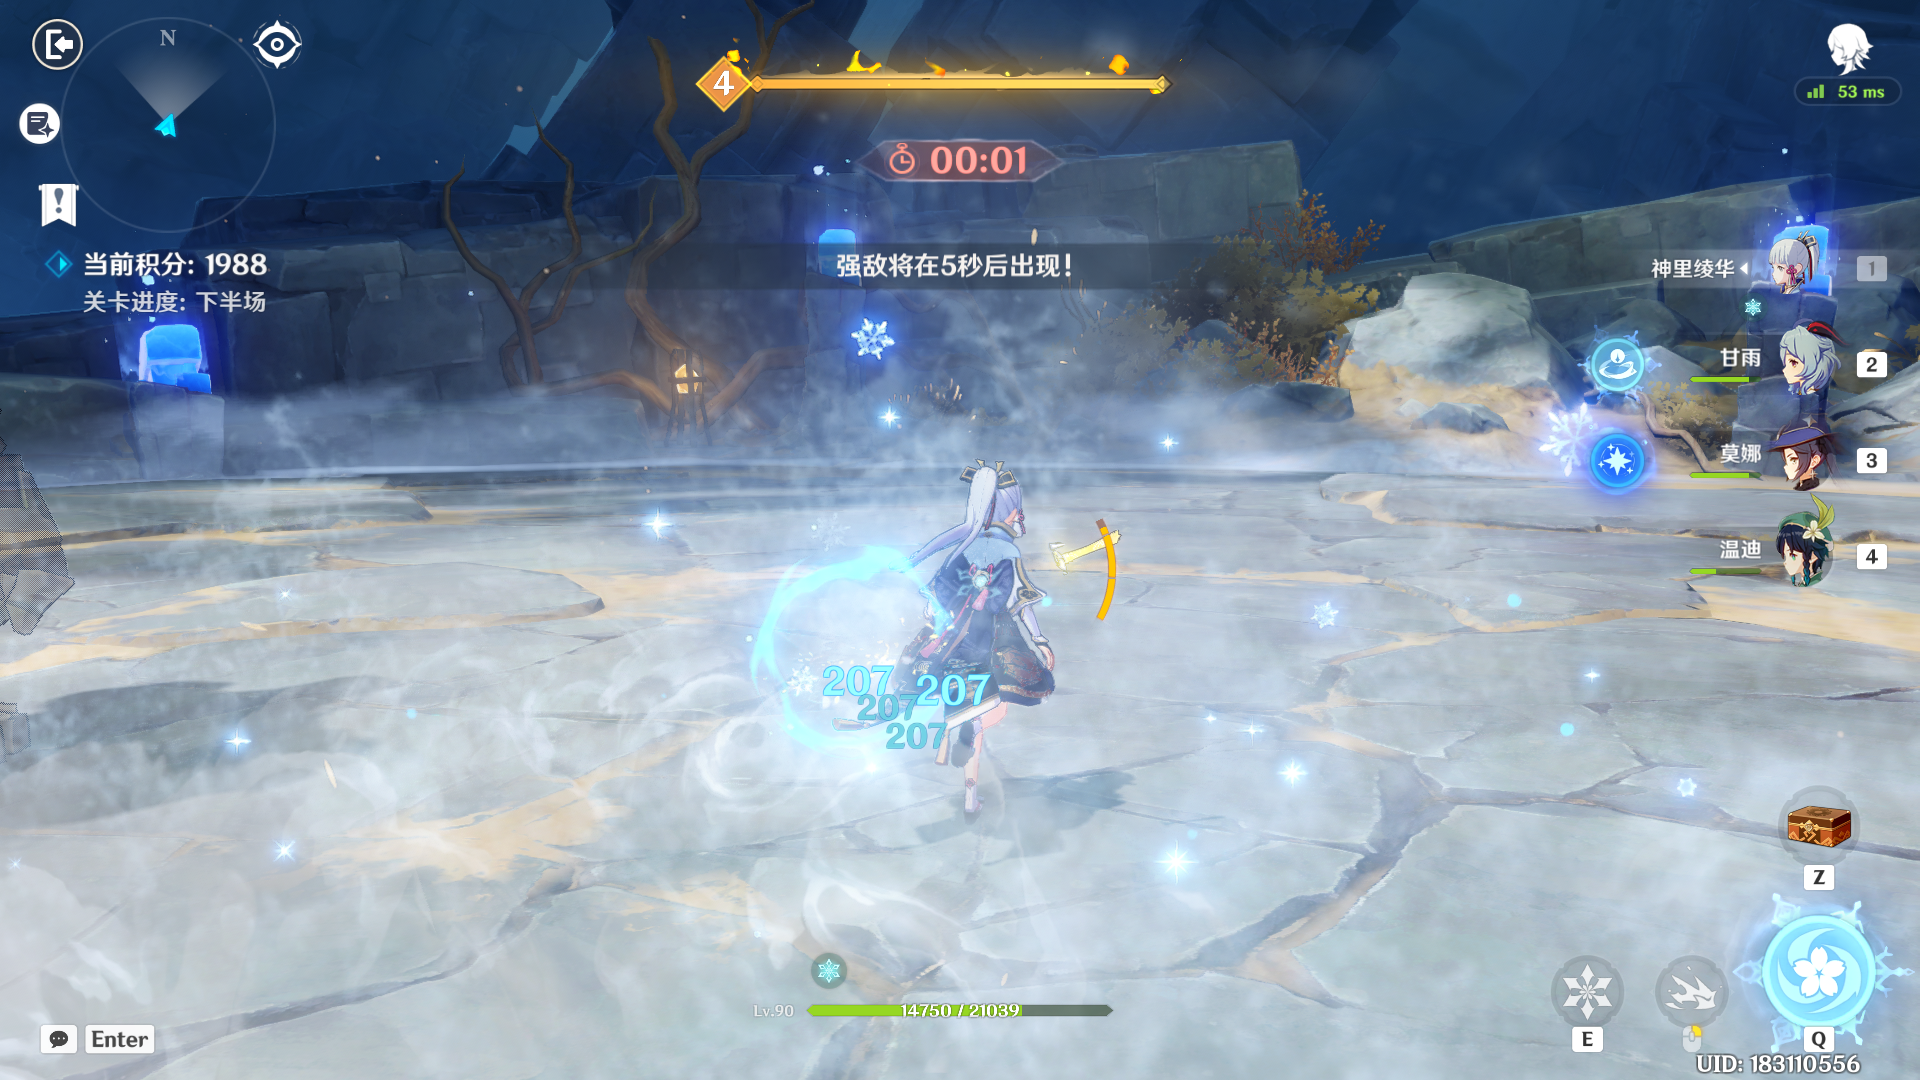character: (845, 444, 1124, 852)
